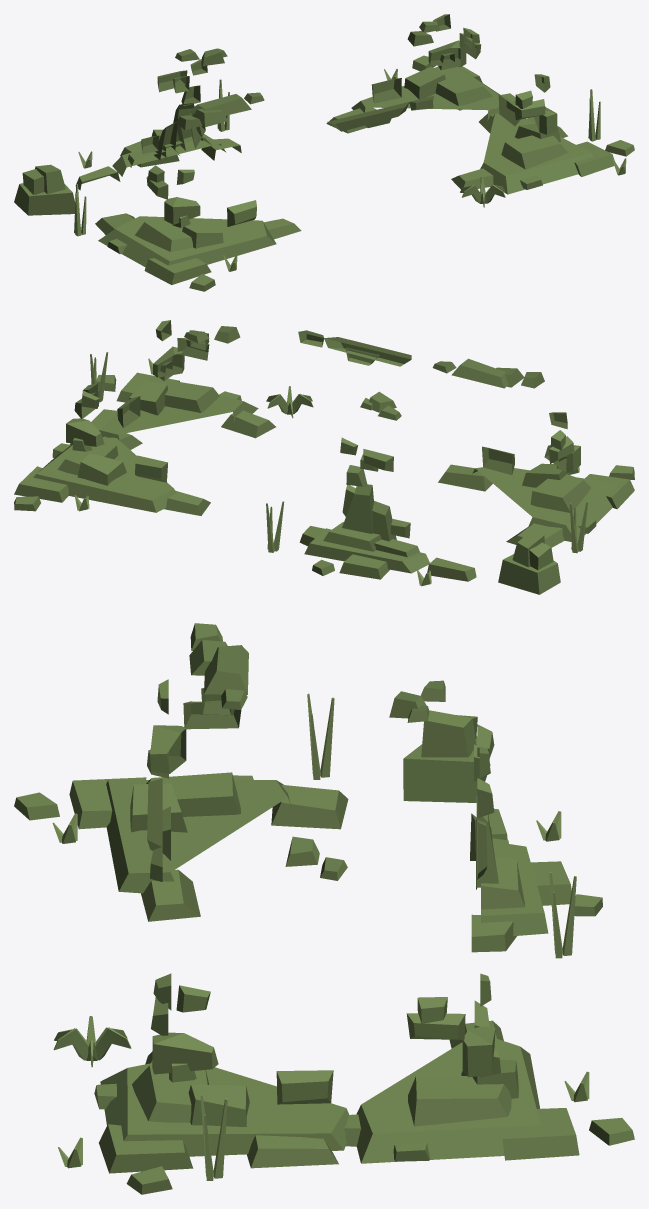
The model's file is SA_Bld_AutoRepair_Growth_01.gltf.
3 views of the same model, one above another, from view 1: azimuth 30°, elevation 25°; view 2: azimuth 150°, elevation 25°; view 3: azimuth 270°, elevation 25° (orthographic). The views are drawn at different scales.
Visible parts, largest first — view 1: SA_Bld_AutoRepair_Growth_01; view 2: SA_Bld_AutoRepair_Growth_01; view 3: SA_Bld_AutoRepair_Growth_01.
Part boxes in pixels (<box>): SA_Bld_AutoRepair_Growth_01: <box>14,14,634,291</box>; SA_Bld_AutoRepair_Growth_01: <box>14,320,634,594</box>; SA_Bld_AutoRepair_Growth_01: <box>14,623,634,1194</box>.
Size of the model in its own units: 28.16 by 6.7 by 17.07.
1 material, 1 textured.
